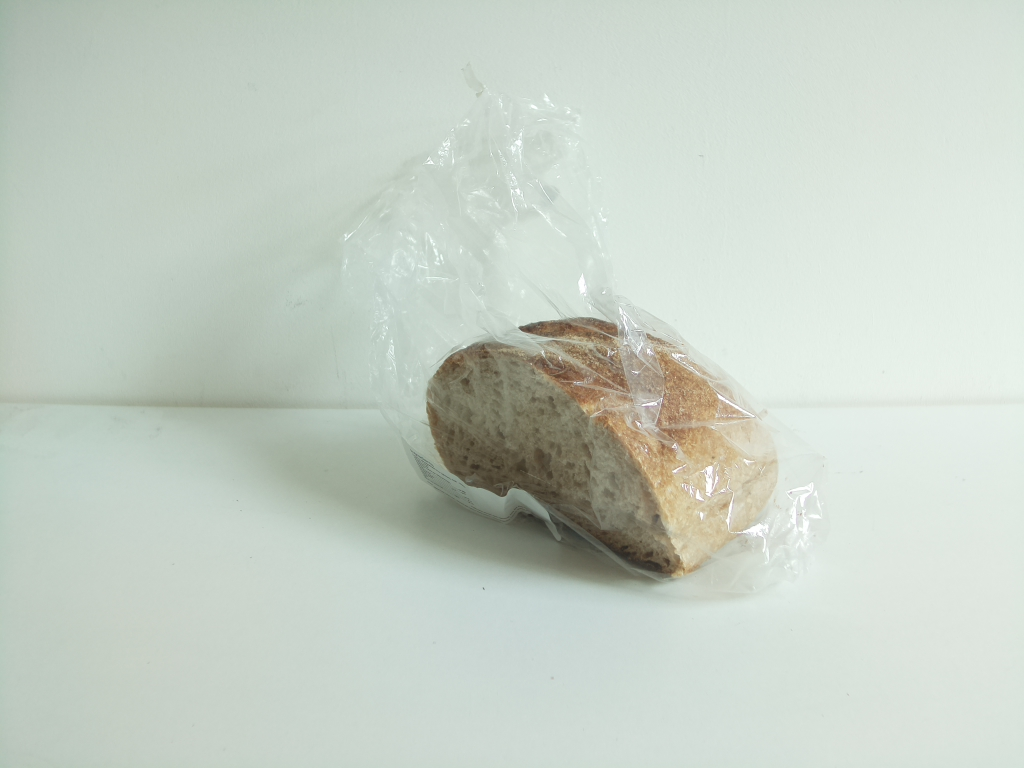bread: (426, 319, 780, 582)
